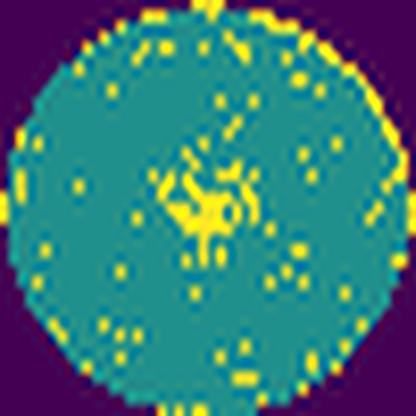Center: (148, 149, 244, 267)
